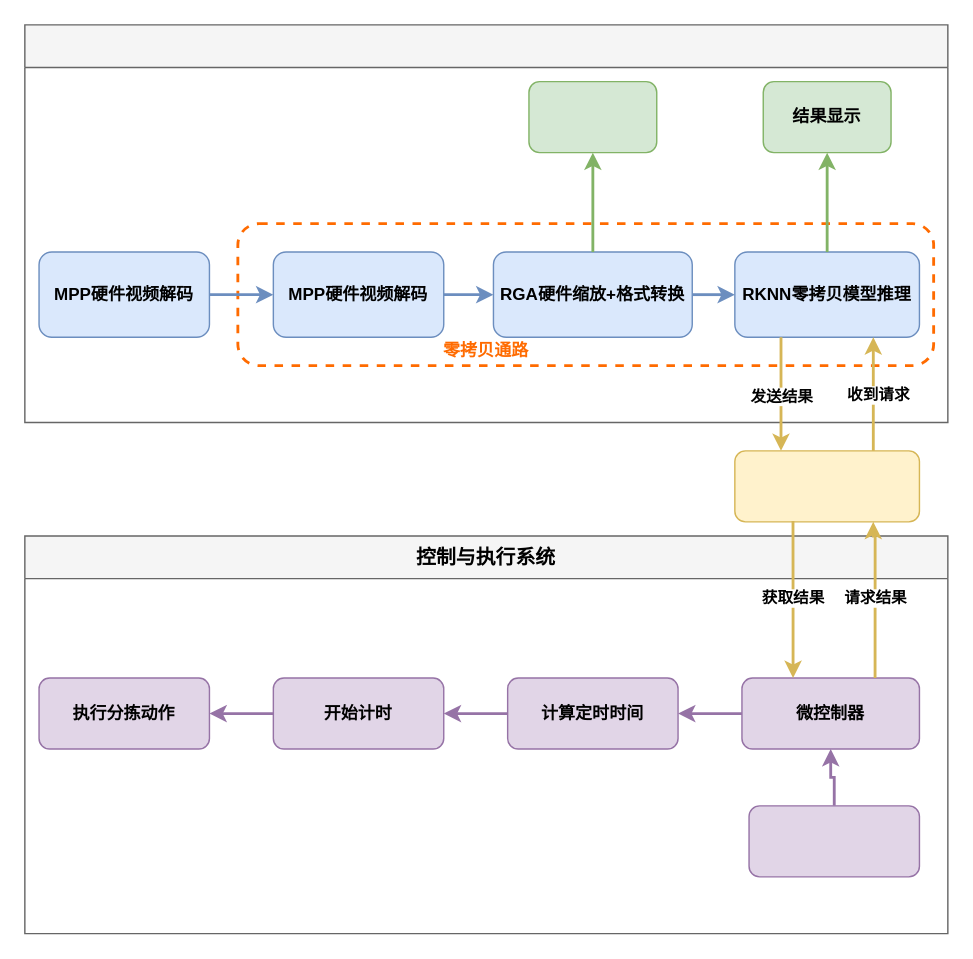
Image size: 973x959. Some labels were removed from this diagram. The shapes that lost their labels are listed below. From the top down, each one's box as (x1, y1, x2, y2) in pixels, then its label:
(528, 80, 657, 153): 画面显示
(23, 23, 948, 422): 视频处理流水线
(733, 449, 919, 522): 全双工通信通路
(748, 804, 919, 877): 光电传感器触发
